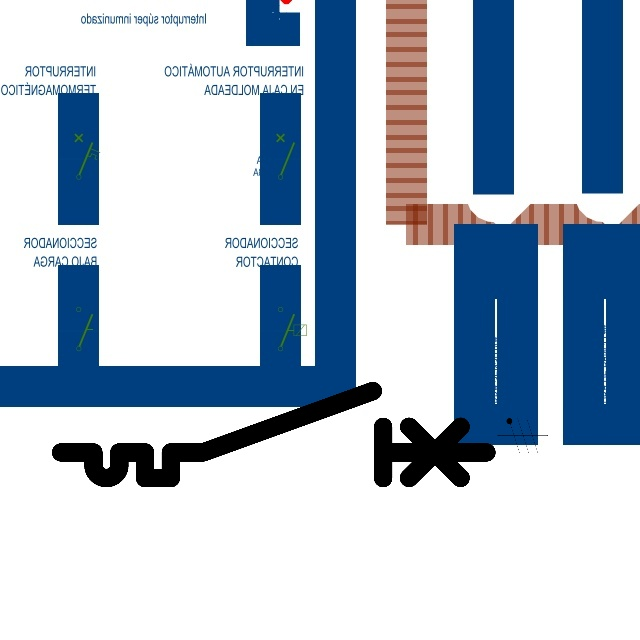interruptor_termomagnetico: (50, 380, 497, 489)
